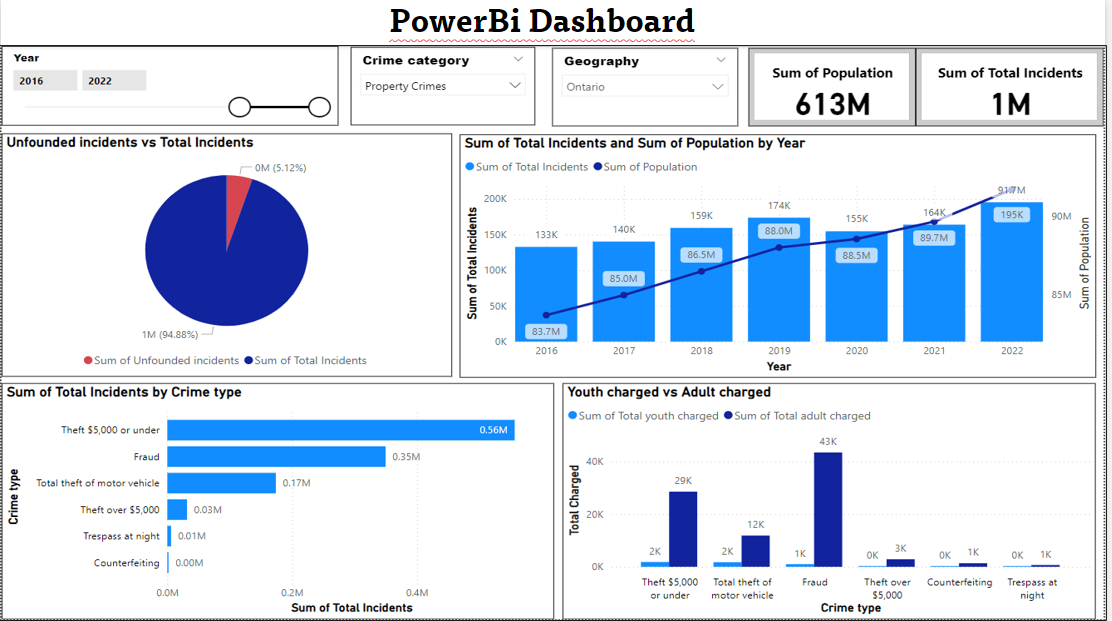

The page's visual inventory and layout, read from the dashboard file:
{"tool":"powerbi","page":{"name":"Page 1","canvas":[1280,720],"ordinal":0},"visuals":[{"type":"clusteredBarChart","fields":{"Category":["Crime_Population_Data.Crime type"],"Y":["Sum(Crime_Population_Data.Total Incidents)"]},"box":[0,423.8,641.9,296.6],"z":0},{"type":"slicer","fields":{"Values":["Crime_Population_Data.Year"]},"box":[0,0,391.1,100.2],"z":1000},{"type":"slicer","fields":{"Values":["Crime_Population_Data.Crime category"]},"box":[405.7,1.4,214.3,98.6],"z":2000},{"type":"slicer","fields":{"Values":["Crime_Population_Data.Geography"]},"box":[640,2.9,215.7,98.6],"z":3000},{"type":"lineStackedColumnComboChart","fields":{"Category":["Crime_Population_Data.Year"],"Y2":["Sum(Crime_Population_Data.Population)"],"Y":["Sum(Crime_Population_Data.Total Incidents)"]},"box":[532,111,739.5,305.2],"z":4000},{"type":"cardVisual","fields":{"Data":["Sum(Crime_Population_Data.Population)"]},"box":[867.1,2.9,194.3,98.6],"z":5000},{"type":"cardVisual","fields":{"Data":["Sum(Crime_Population_Data.Total Incidents)"]},"box":[1061.4,2.9,218.6,98.6],"z":6000},{"type":"clusteredColumnChart","title":"Youth charged vs Adult charged ","fields":{"Category":["Crime_Population_Data.Crime type"],"Y":["Sum(Crime_Population_Data.Total youth charged)","Sum(Crime_Population_Data.Total adult charged)"]},"box":[651.8,423.8,619.4,296.6],"z":7000},{"type":"pieChart","title":"Unfounded incidents vs Total Incidents","fields":{"Y":["Sum(Crime_Population_Data.Unfounded incidents)","Sum(Crime_Population_Data.Total Incidents)"]},"box":[0,109.8,523.6,305.2],"z":8000}]}

Visuals, with their boxes in screenshot pixels (x1, y1, x2, y2), scaled from the page's 1280x720 canvas onto the 1112x621 screenshot:
clusteredBarChart - Crime_Population_Data.Crime type x Sum(Crime_Population_Data.Total Incidents): 0 366 558 620
slicer - Crime_Population_Data.Year: 0 0 340 86
slicer - Crime_Population_Data.Crime category: 352 1 539 86
slicer - Crime_Population_Data.Geography: 556 3 743 88
lineStackedColumnComboChart - Crime_Population_Data.Year x Sum(Crime_Population_Data.Population): 462 96 1105 359
cardVisual - Sum(Crime_Population_Data.Population): 753 3 922 88
cardVisual - Sum(Crime_Population_Data.Total Incidents): 922 3 1111 88
"Youth charged vs Adult charged " clusteredColumnChart: 566 366 1104 620
"Unfounded incidents vs Total Incidents" pieChart: 0 95 455 358
